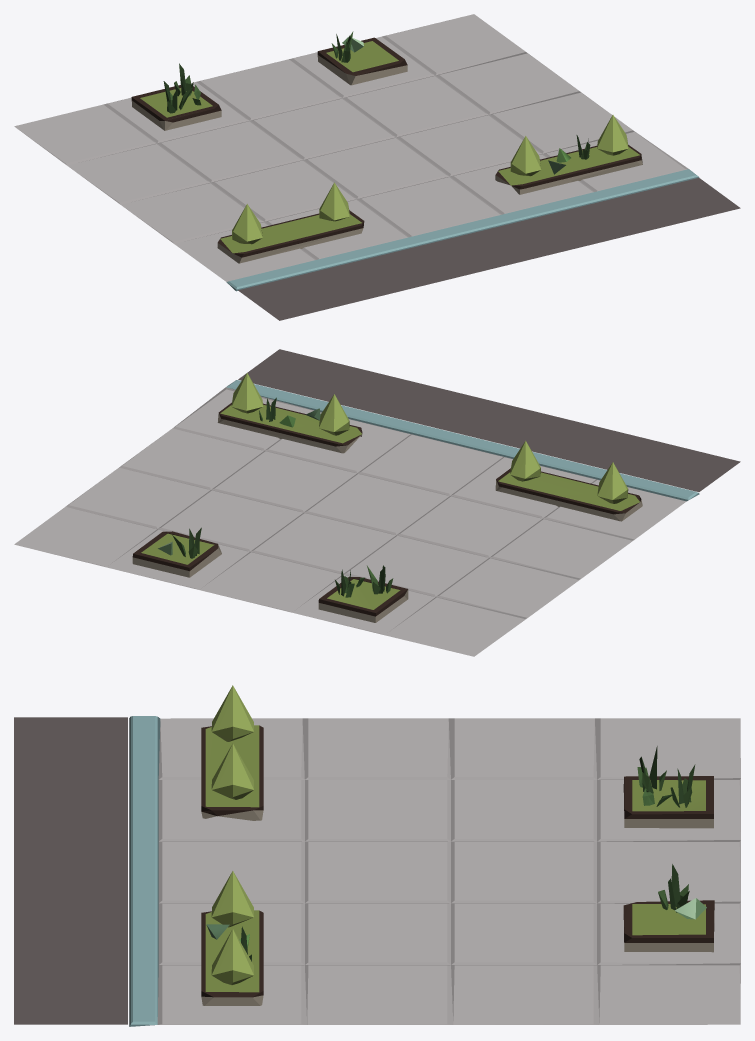
Rendered from QmTn9GGT8uFxt9D59z2PcPJqCx4ovrQQTDNWeVKkx7npfH_lod2.fbx.
3 renders of one model, top to bottom at view 1: azimuth 30°, elevation 25°; view 2: azimuth 150°, elevation 25°; view 3: azimuth 270°, elevation 25°, orthographic. The views are drawn at different scales.
Visible parts, largest first — view 1: Entity_513; view 2: Entity_513; view 3: Entity_513.
Part boxes in pixels (bbox=[...]): Entity_513: bbox=[14, 14, 740, 320]; Entity_513: bbox=[14, 349, 740, 656]; Entity_513: bbox=[14, 685, 740, 1026].
Size of the model in its own units: 16000 by 1591 by 15918.
Materials: 1 (1 with a texture image).
